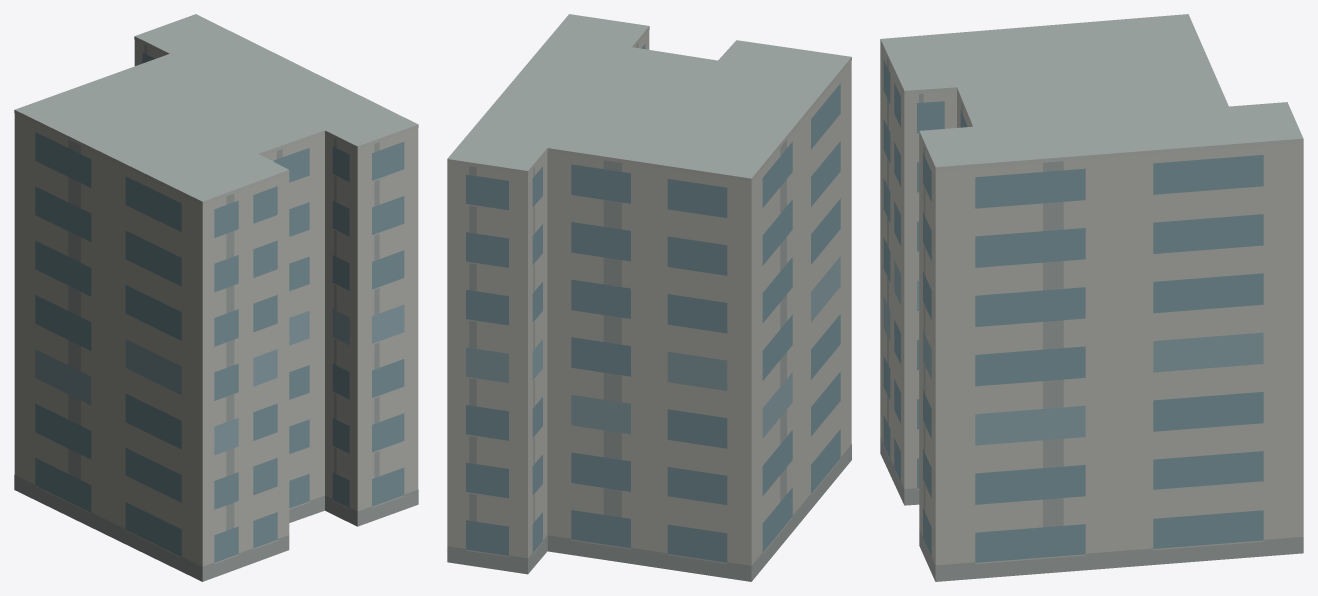
Rendered from survey-upis-32914853.glb.
3 views of the same model, side by side, from view 1: azimuth 30°, elevation 25°; view 2: azimuth 150°, elevation 25°; view 3: azimuth 270°, elevation 25° (orthographic). The views are drawn at different scales.
Visible parts, largest first — view 1: survey-upis-32914853.tmp; view 2: survey-upis-32914853.tmp; view 3: survey-upis-32914853.tmp.
Part boxes in pixels (x1,y1,x2,y2): survey-upis-32914853.tmp: (14,14,418,581); survey-upis-32914853.tmp: (447,14,851,581); survey-upis-32914853.tmp: (880,14,1303,581).
Bounding box in the file's own units: 20.46 × 25.8 × 23.87.
